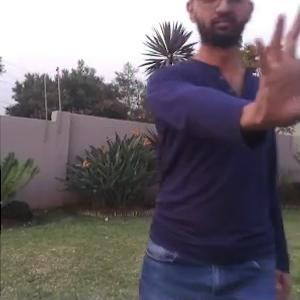follow_hand: (250, 4, 299, 126)
